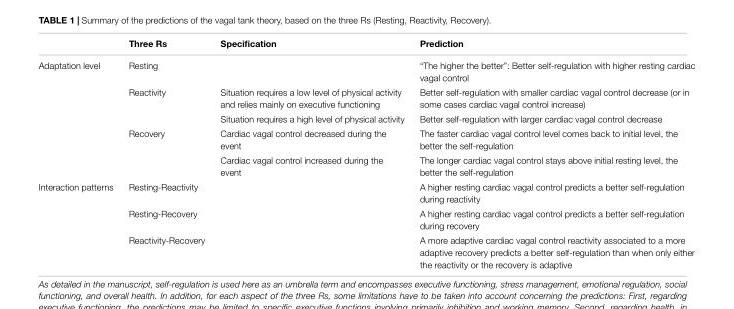table: (37, 37, 694, 269)
table column: (411, 37, 694, 269), (211, 37, 411, 269), (120, 37, 211, 269), (37, 37, 120, 269)
table column header: (37, 37, 694, 53)
table row: (37, 232, 694, 269), (37, 53, 694, 84), (37, 125, 694, 152), (37, 178, 694, 205), (37, 205, 694, 232), (37, 84, 694, 110), (37, 152, 694, 178), (37, 37, 694, 53), (37, 110, 694, 125)
table spanning cell: (37, 53, 120, 178), (37, 178, 120, 269)
